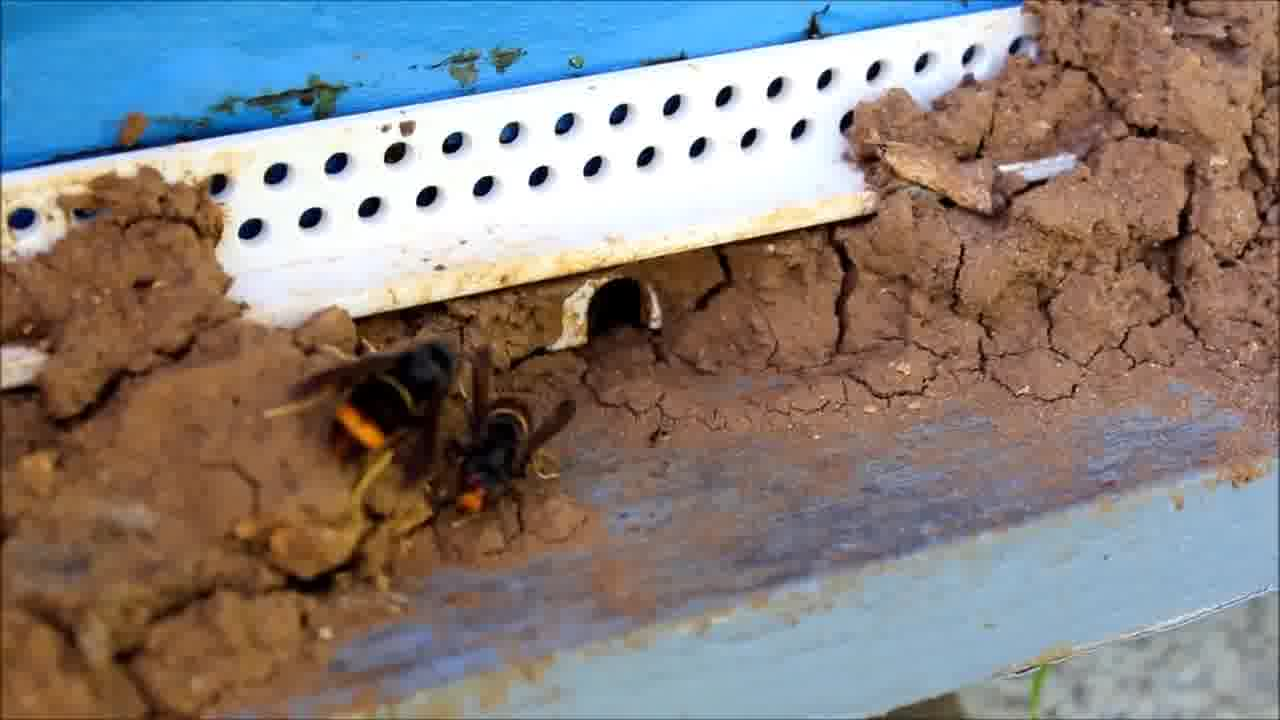hornet: (326, 326, 461, 483), (448, 371, 569, 513)
